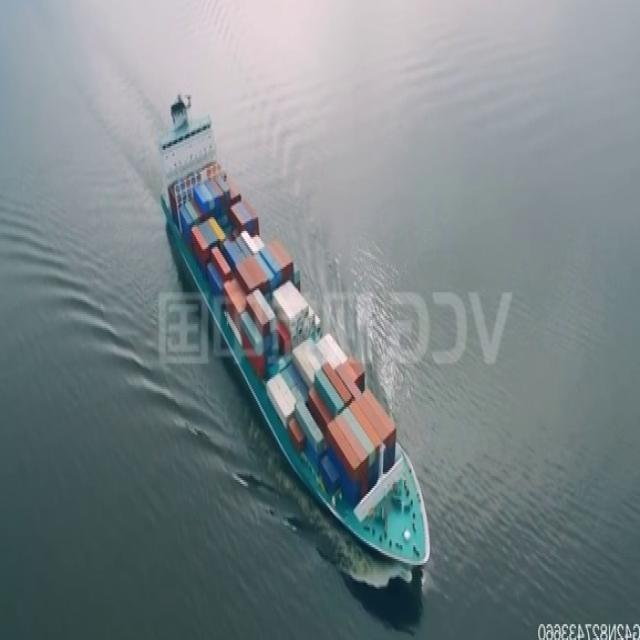cargoship: (158, 86, 430, 584)
